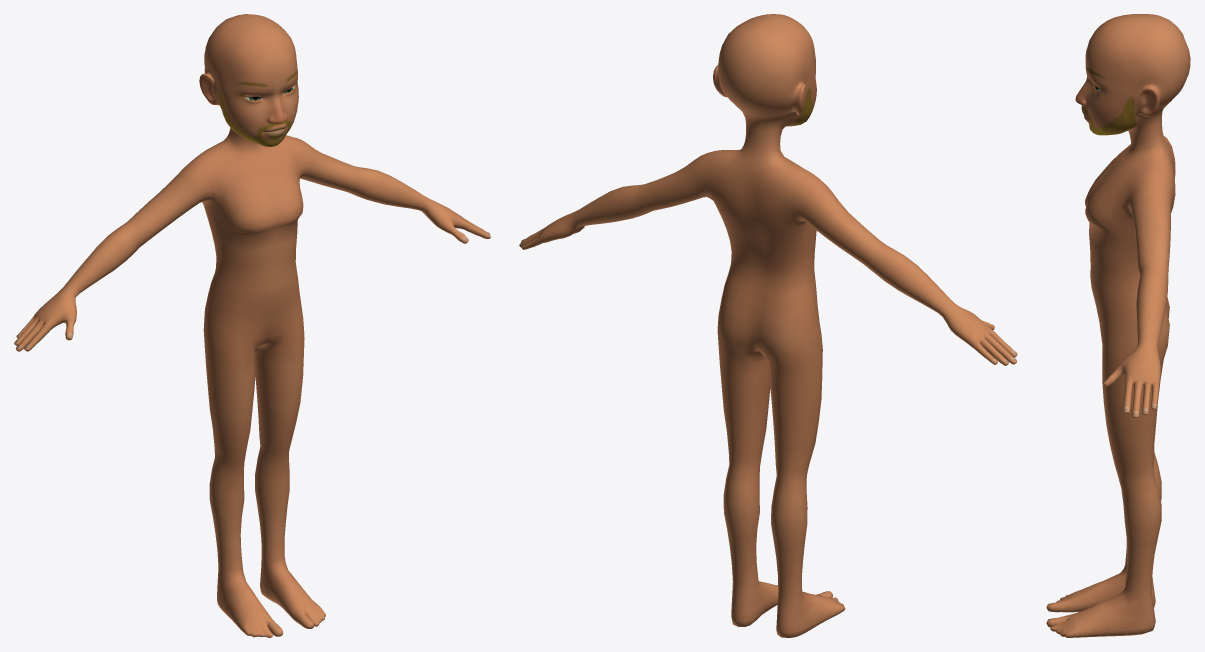
File: frame_0073.glb
3 renders of one model, left to right at view 1: azimuth 30°, elevation 25°; view 2: azimuth 150°, elevation 25°; view 3: azimuth 270°, elevation 25°, orthographic. The views are drawn at different scales.
Visible parts, largest first — view 1: frame_0073_head_geo; view 2: frame_0073_head_geo; view 3: frame_0073_head_geo.
Part boxes in pixels (x1,y1,x2,y2): frame_0073_head_geo: (14,14,490,637); frame_0073_head_geo: (519,14,1017,637); frame_0073_head_geo: (1046,14,1190,637).
Size of the model in its own units: 1.28 by 1.5 by 0.3253.
3 materials, 3 textured.
